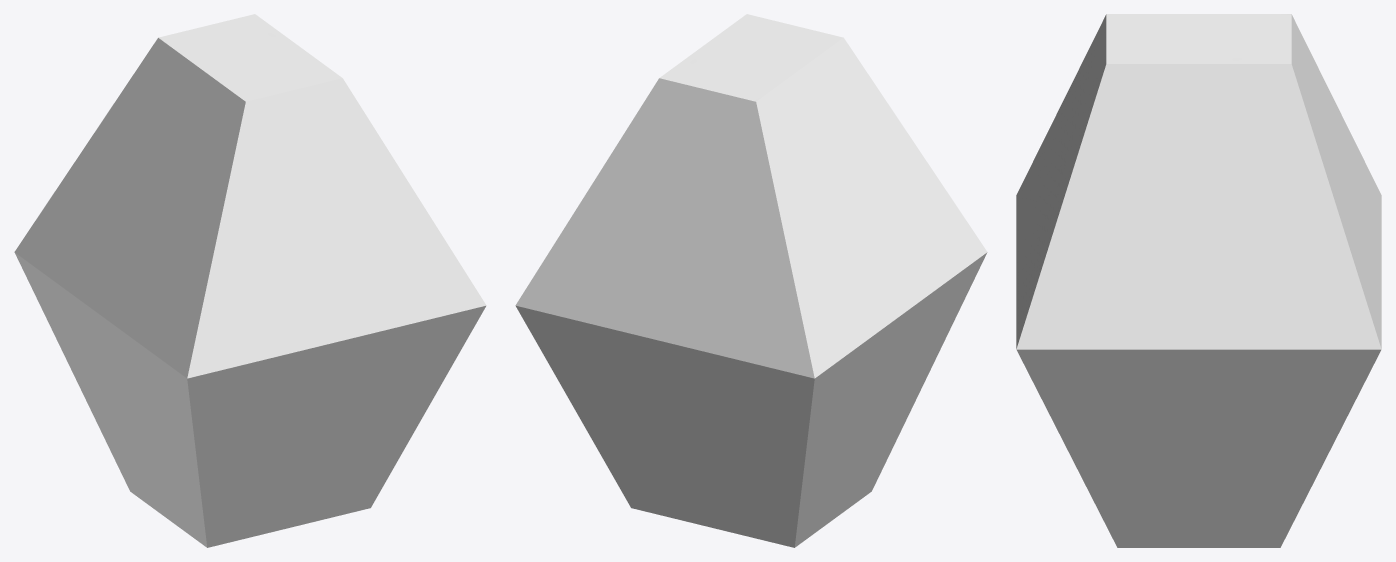
File: body.obj
3 views of the same model, side by side, from view 1: azimuth 30°, elevation 25°; view 2: azimuth 150°, elevation 25°; view 3: azimuth 270°, elevation 25° (orthographic). The views are drawn at different scales.
Visible parts, largest first — view 1: body_立方体.001; view 2: body_立方体.001; view 3: body_立方体.001.
Boxes of the visible parts, <box> form: body_立方体.001: <box>14,14,486,547</box>; body_立方体.001: <box>515,14,987,547</box>; body_立方体.001: <box>1016,14,1381,547</box>.
Bounding box in the file's own units: 1.26 × 1.77 × 1.26.
1 material, 1 textured.
